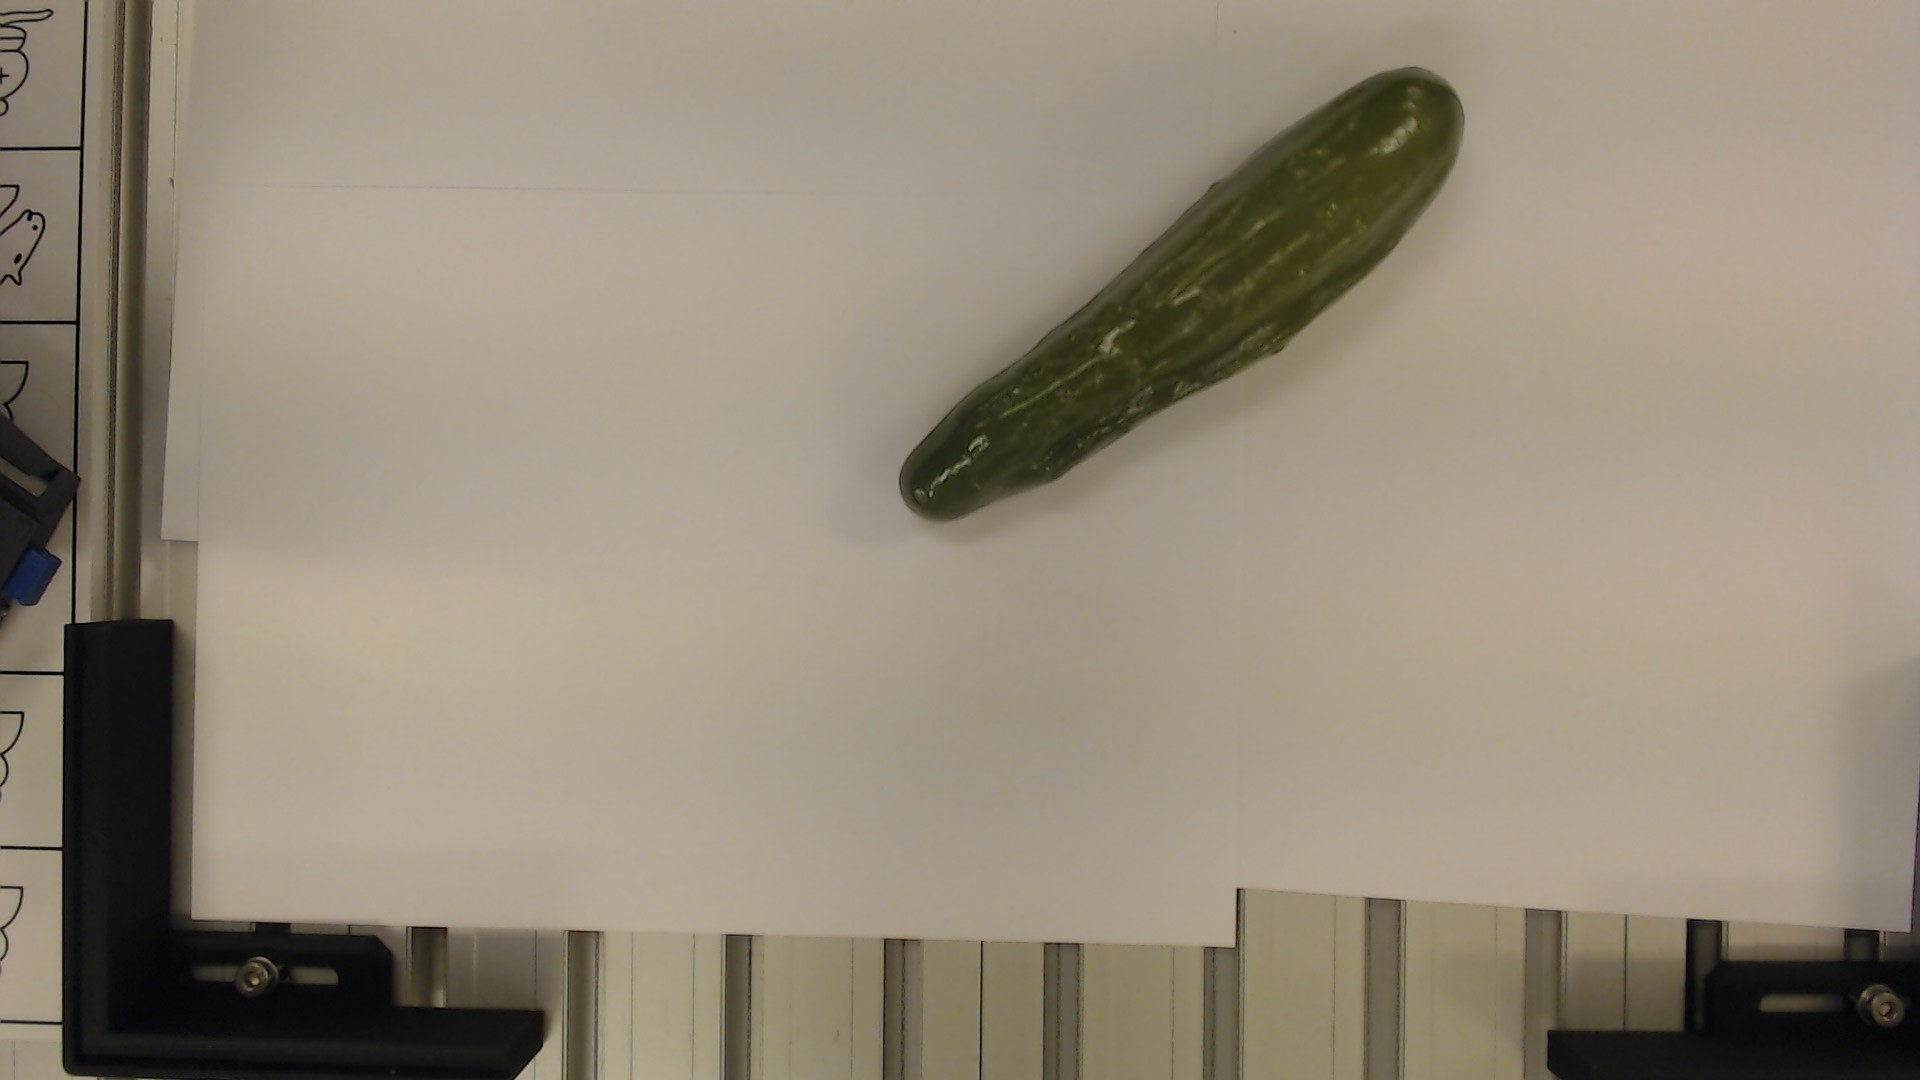Cucumber: (893, 51, 1460, 534)
